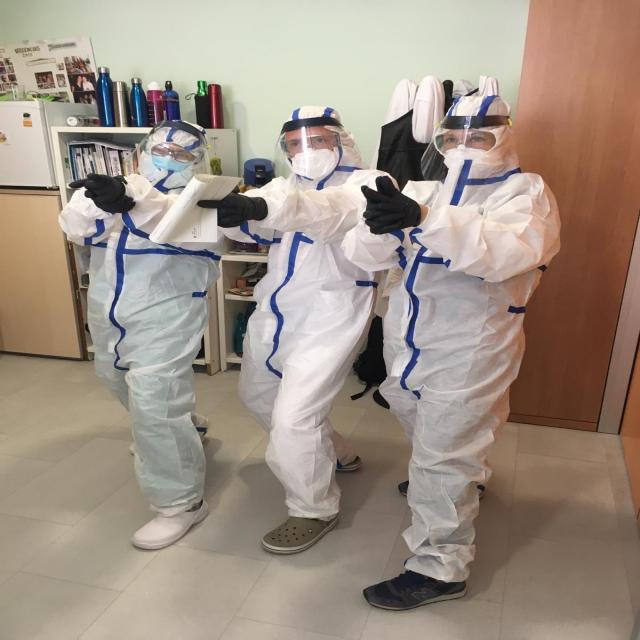Face_Shield: (419, 113, 521, 185), (125, 120, 215, 188), (269, 120, 357, 186)
Gloves: (359, 175, 423, 235), (65, 168, 142, 212), (193, 195, 274, 227)
Goggles: (143, 139, 202, 163), (436, 130, 499, 152), (281, 133, 341, 150)
